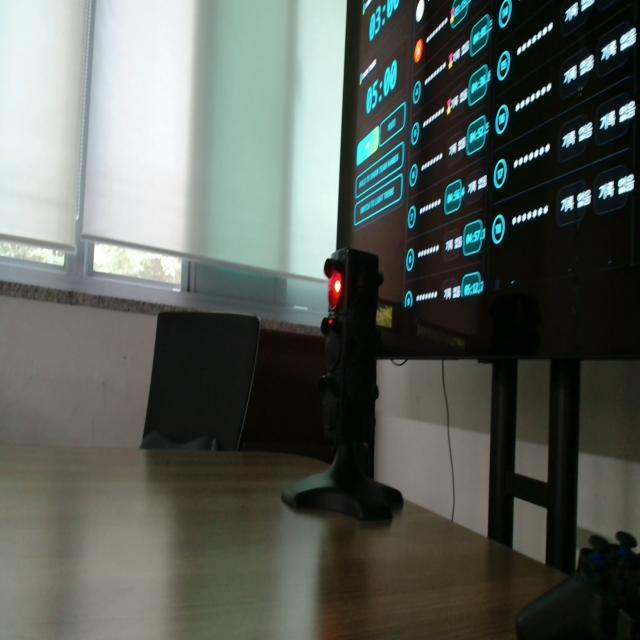red_light: (329, 271, 342, 309), (334, 280, 341, 293)
